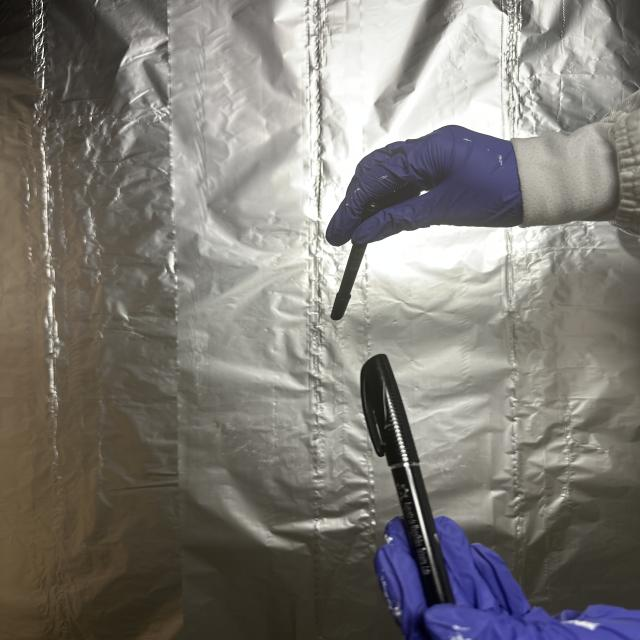gloves_contaminated: (374, 517, 640, 640), (326, 126, 523, 246)
